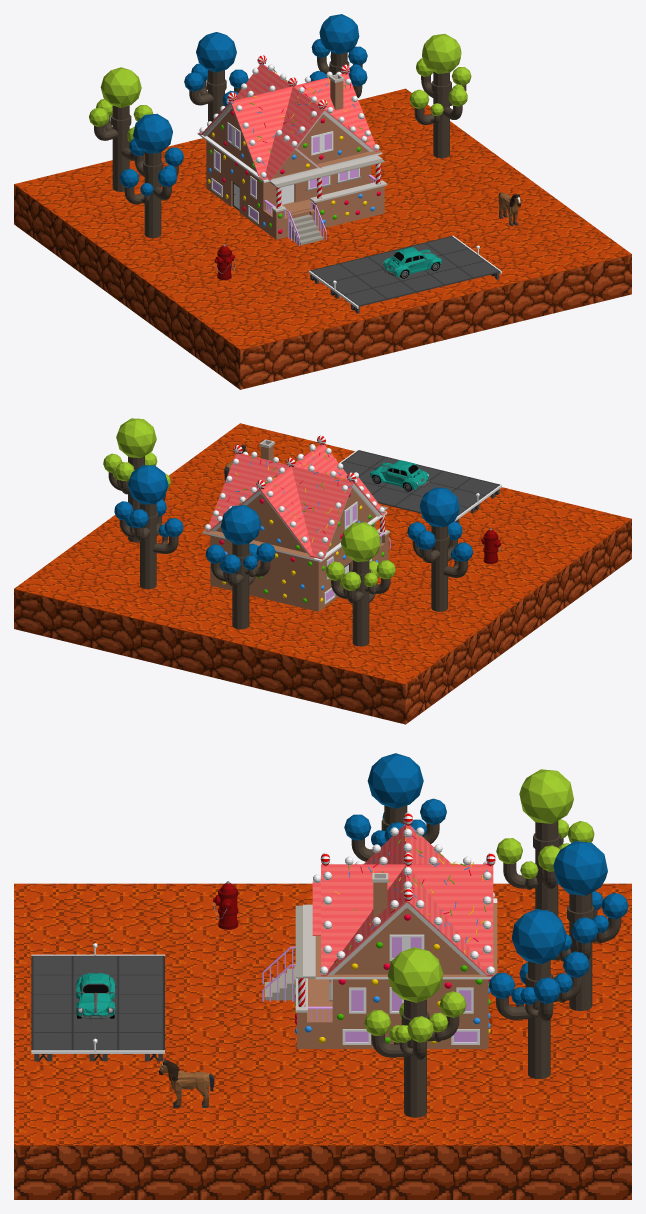
3 renders of one model, top to bottom at view 1: azimuth 30°, elevation 25°; view 2: azimuth 150°, elevation 25°; view 3: azimuth 270°, elevation 25°, orthographic. The views are drawn at different scales.
Visible parts, largest first — view 1: Cube.001, Cube.1203, VEHICLES_VOLKSWAGEN, ANIMAL_CABALLO, OBJRANDOM_FIRE_HYDRANT; view 2: Cube.001, Cube.1203, VEHICLES_VOLKSWAGEN, OBJRANDOM_FIRE_HYDRANT; view 3: Cube.001, Cube.1203, VEHICLES_VOLKSWAGEN, ANIMAL_CABALLO, OBJRANDOM_FIRE_HYDRANT.
Part boxes in pixels (x1=…): Cube.001: x1=14, y1=14, x2=631, y2=389; Cube.1203: x1=197, y1=55, x2=387, y2=246; VEHICLES_VOLKSWAGEN: x1=382, y1=247, x2=442, y2=278; ANIMAL_CABALLO: x1=498, y1=192, x2=521, y2=226; OBJRANDOM_FIRE_HYDRANT: x1=214, y1=244, x2=235, y2=279; Cube.001: x1=14, y1=418, x2=631, y2=724; Cube.1203: x1=202, y1=435, x2=390, y2=611; VEHICLES_VOLKSWAGEN: x1=370, y1=460, x2=429, y2=491; OBJRANDOM_FIRE_HYDRANT: x1=481, y1=528, x2=501, y2=563; Cube.001: x1=14, y1=753, x2=631, y2=1199; Cube.1203: x1=262, y1=812, x2=497, y2=1048; VEHICLES_VOLKSWAGEN: x1=76, y1=973, x2=115, y2=1019; ANIMAL_CABALLO: x1=159, y1=1059, x2=214, y2=1108; OBJRANDOM_FIRE_HYDRANT: x1=213, y1=881, x2=238, y2=929.
Bounding box in the file's own units: 4000 × 1765 × 4000.
41 materials, 5 textured.
